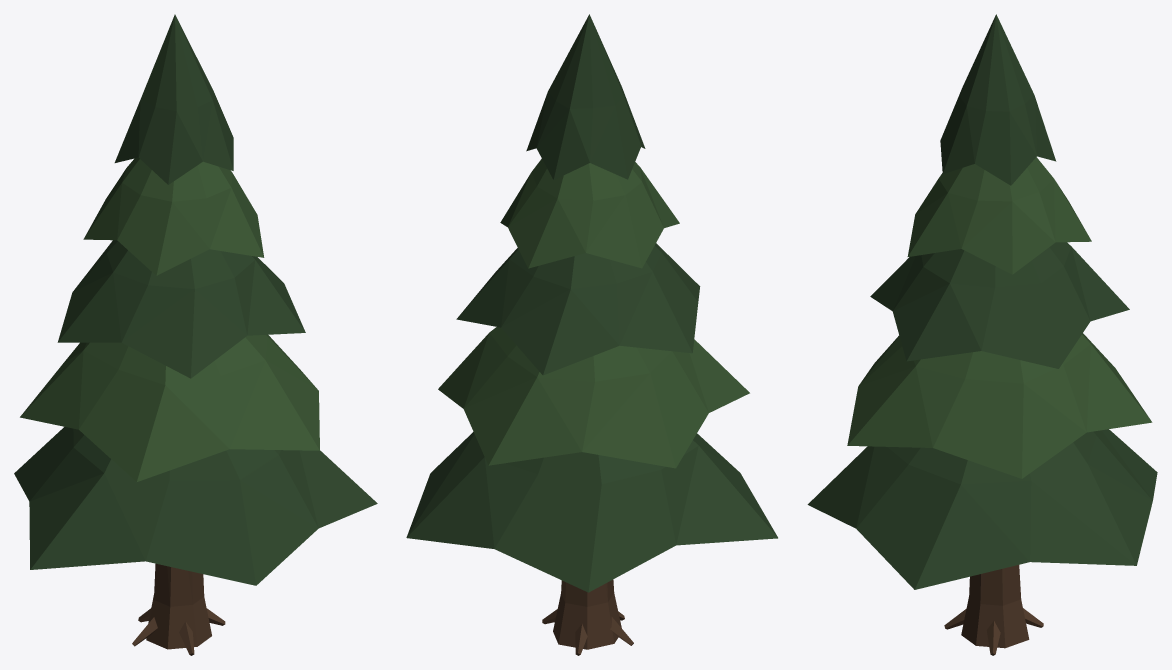
File: Tree_Pine.fbx
The picture shows the model from 3 angles, left to right: view 1: azimuth 30°, elevation 25°; view 2: azimuth 150°, elevation 25°; view 3: azimuth 270°, elevation 25°; orthographic projection.
Parts seen in each view (by area): view 1: Needles, Needles2, Trunk; view 2: Needles, Needles2, Trunk; view 3: Needles, Needles2, Trunk.
Part boxes in pixels (<box>): Needles: <box>14,14,377,585</box>; Needles2: <box>20,157,319,481</box>; Trunk: <box>132,563,225,655</box>; Needles: <box>406,14,777,592</box>; Needles2: <box>438,158,749,468</box>; Trunk: <box>542,579,633,655</box>; Needles: <box>807,14,1157,589</box>; Needles2: <box>847,157,1152,478</box>; Trunk: <box>944,565,1043,655</box>.
Size of the model in its own units: 8.95 by 16.17 by 8.28.
